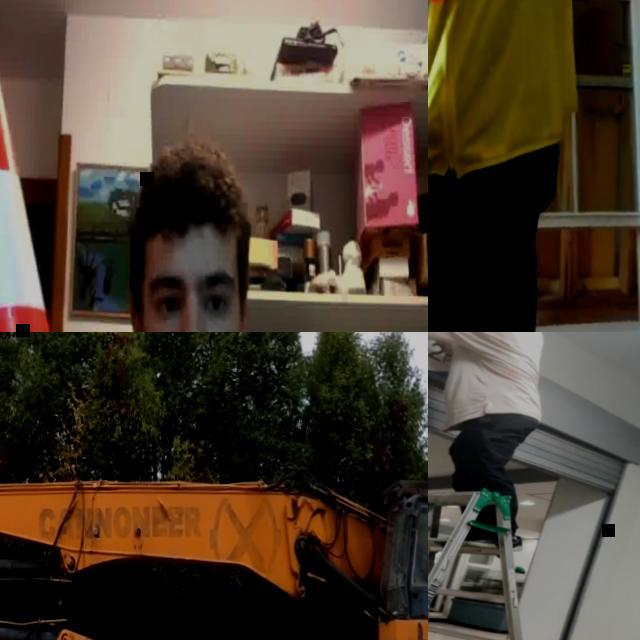vest: (428, 0, 585, 186)
